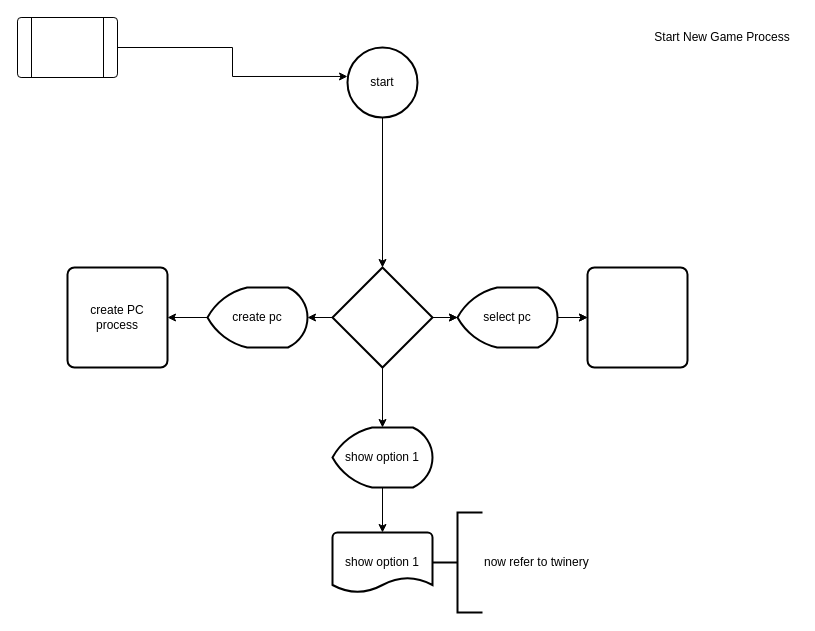
The diagram is 815 pixels wide and 631 high, and some of its shapes have lost their labels. The shapes that lost their labels are listed below. From the top down, each one's centre as x and y in pixels, then its label:
At (x=67, y=47): "start game process".
At (x=382, y=317): "choice".
At (x=637, y=317): "select PC process".
